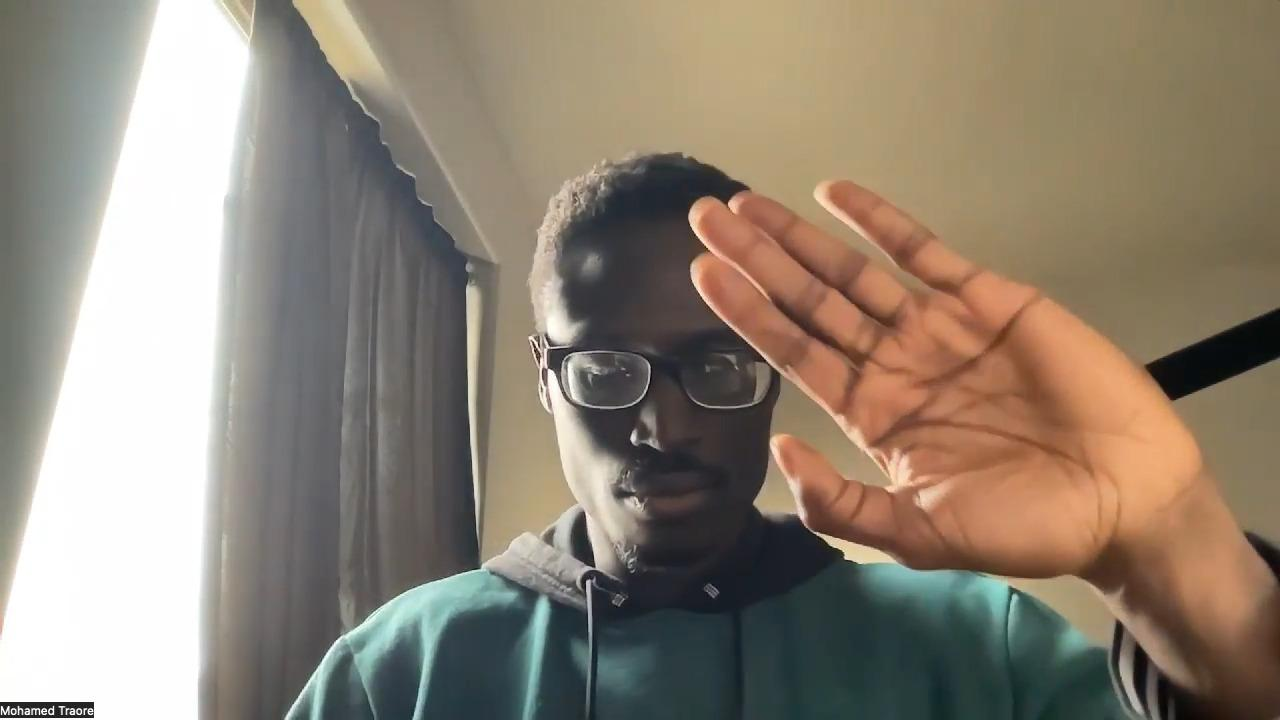Paper: (688, 177, 1197, 575)
